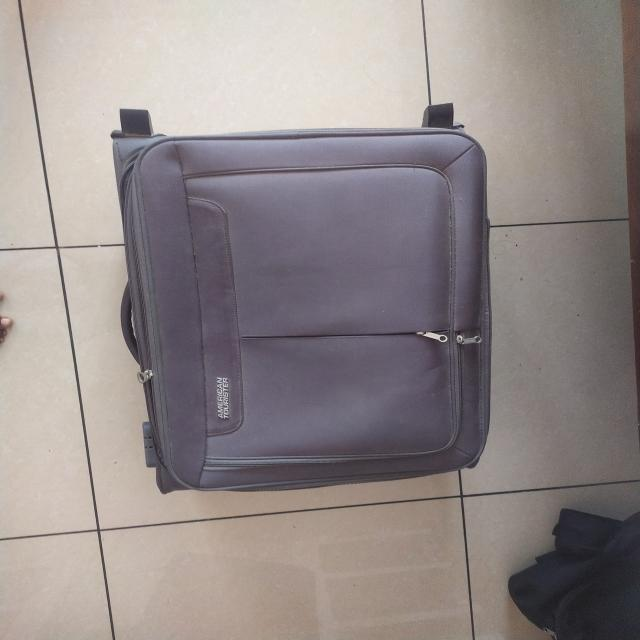suitcaserotation: (106, 100, 497, 498)
